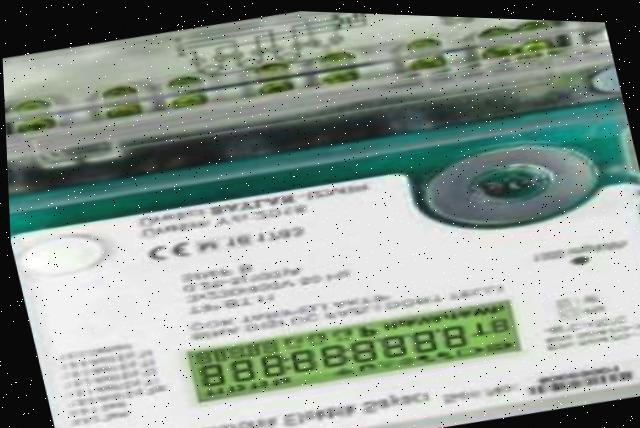electric-meter-detection: (3, 11, 640, 428)
